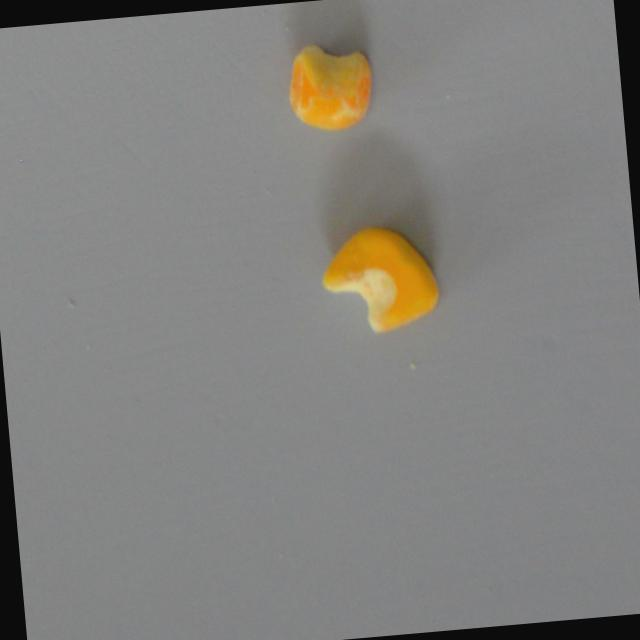no_canjicado: (315, 218, 443, 335)
pelicula: (282, 37, 376, 131)
